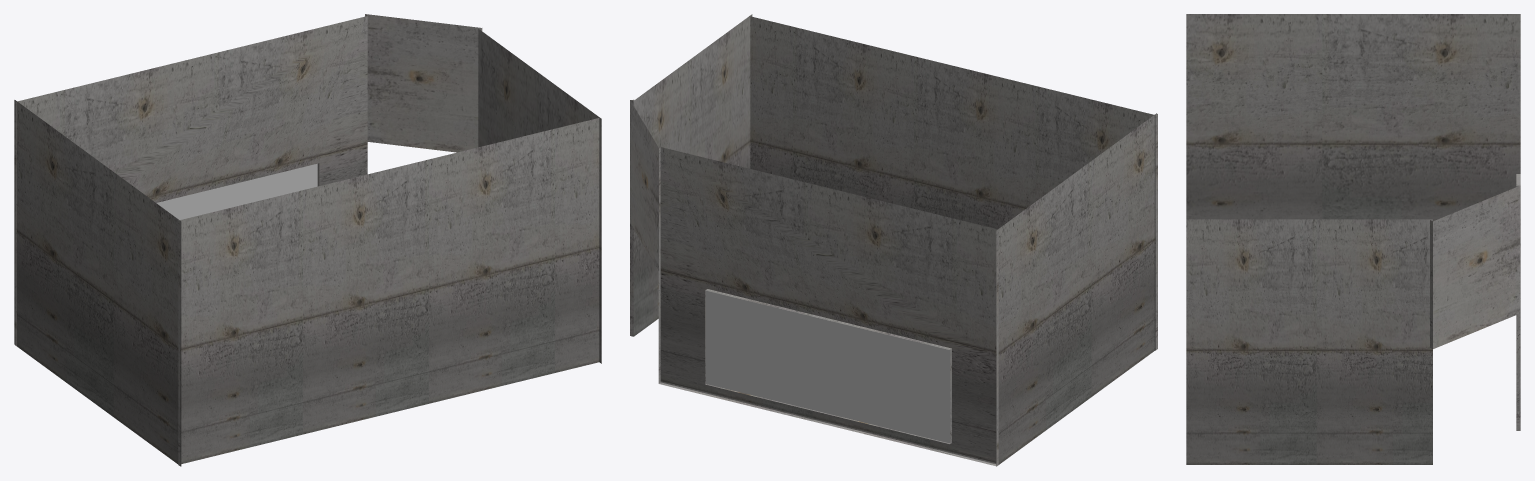
Rendered from Building.fbx.
3 renders of one model, left to right at view 1: azimuth 30°, elevation 25°; view 2: azimuth 150°, elevation 25°; view 3: azimuth 270°, elevation 25°, orthographic. The views are drawn at different scales.
Visible parts, largest first — view 1: Side wall, Back, Glass wall, Door.002, Front, Glass; view 2: Glass wall, Side wall, Back, Glass, Front, Door.002; view 3: Back, Front, Door.002, Glass wall.
Boxes of the visible parts, <box> form: Side wall: <box>178,118,599,465</box>; Back: <box>15,100,181,466</box>; Glass wall: <box>14,15,367,345</box>; Door.002: <box>365,14,481,152</box>; Front: <box>478,28,601,363</box>; Glass: <box>156,163,317,220</box>; Glass wall: <box>658,147,998,466</box>; Side wall: <box>750,16,1157,350</box>; Back: <box>996,113,1156,466</box>; Glass: <box>706,289,951,443</box>; Front: <box>630,14,752,336</box>; Door.002: <box>630,99,658,270</box>; Back: <box>1186,14,1520,221</box>; Front: <box>1186,219,1432,464</box>; Door.002: <box>1430,185,1520,348</box>; Glass wall: <box>1516,174,1520,430</box>.
Bounding box in the file's own units: 9058 × 5006 × 6161.
